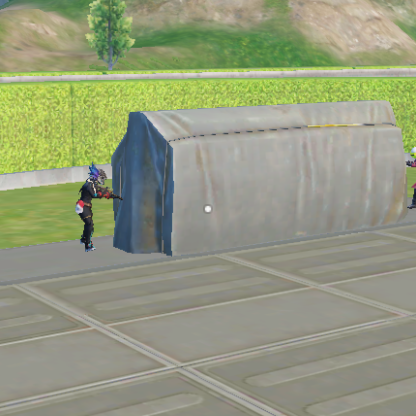ren: (76, 161, 113, 252), (404, 147, 416, 206)
tou: (87, 165, 108, 186), (408, 146, 414, 160)
